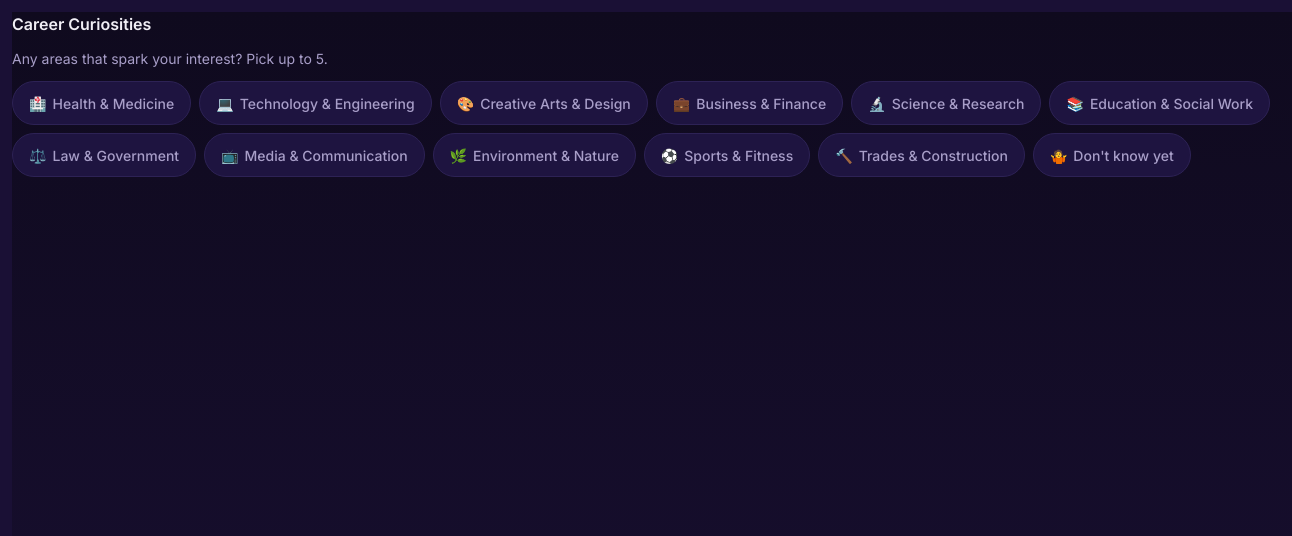
Scenario: CuriositiesPicker › explains the cap once it is reached
Click the checkbox labelled "Health & Medicine": (102, 103) x1=12 y1=81 x2=191 y2=125
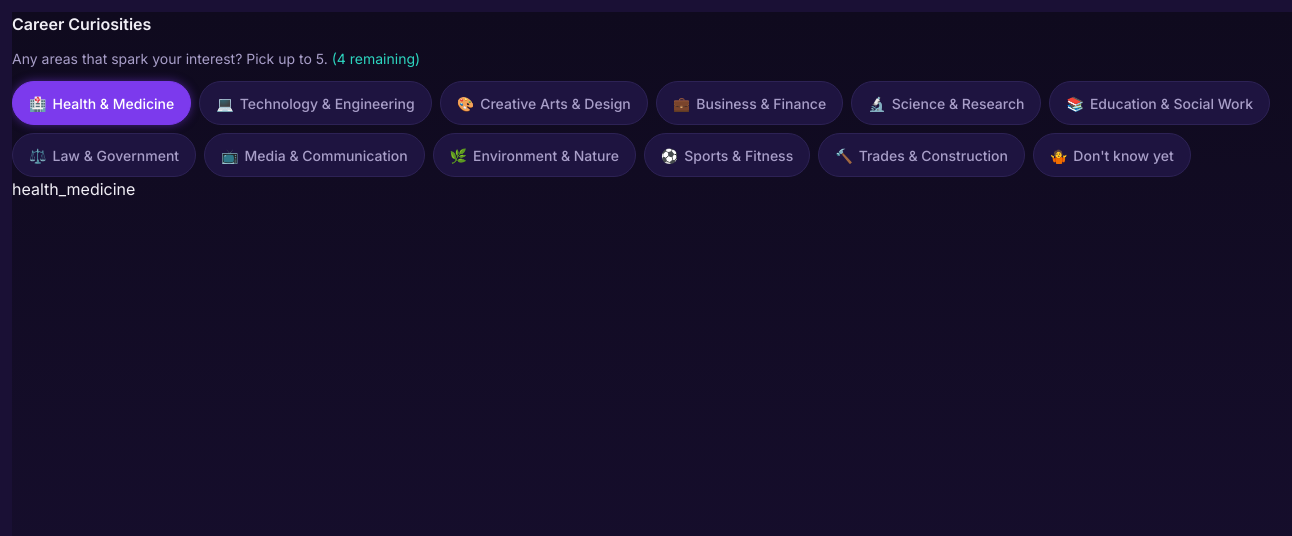
Click the checkbox labelled "Technology & Engineering": (315, 103) x1=199 y1=81 x2=432 y2=125
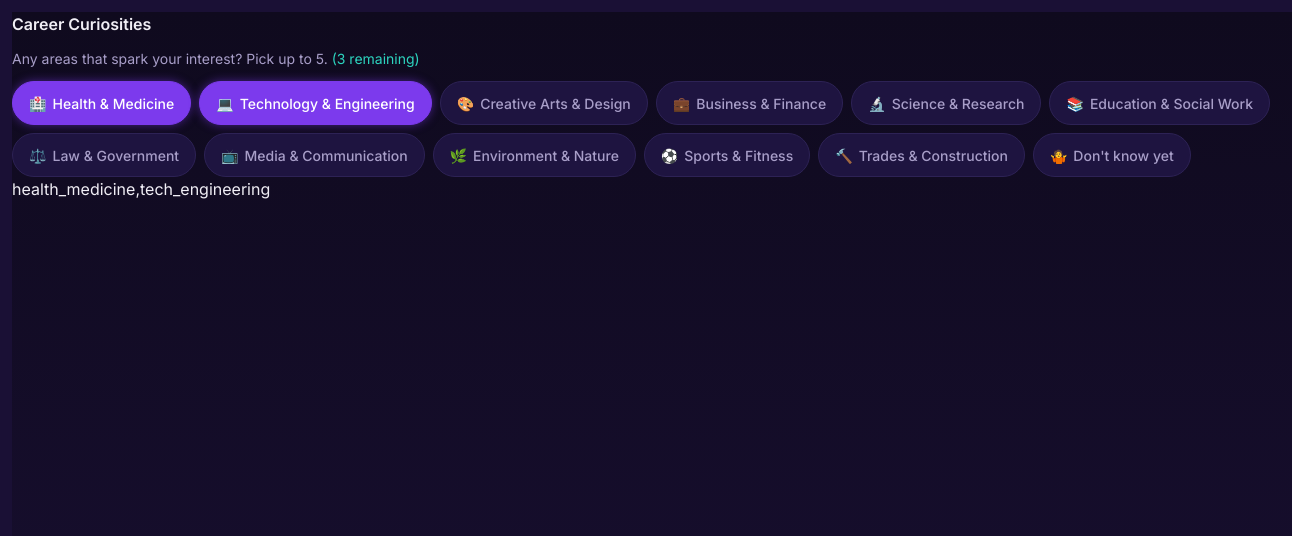
Click the checkbox labelled "Creative Arts & Design": (544, 103) x1=440 y1=81 x2=648 y2=125
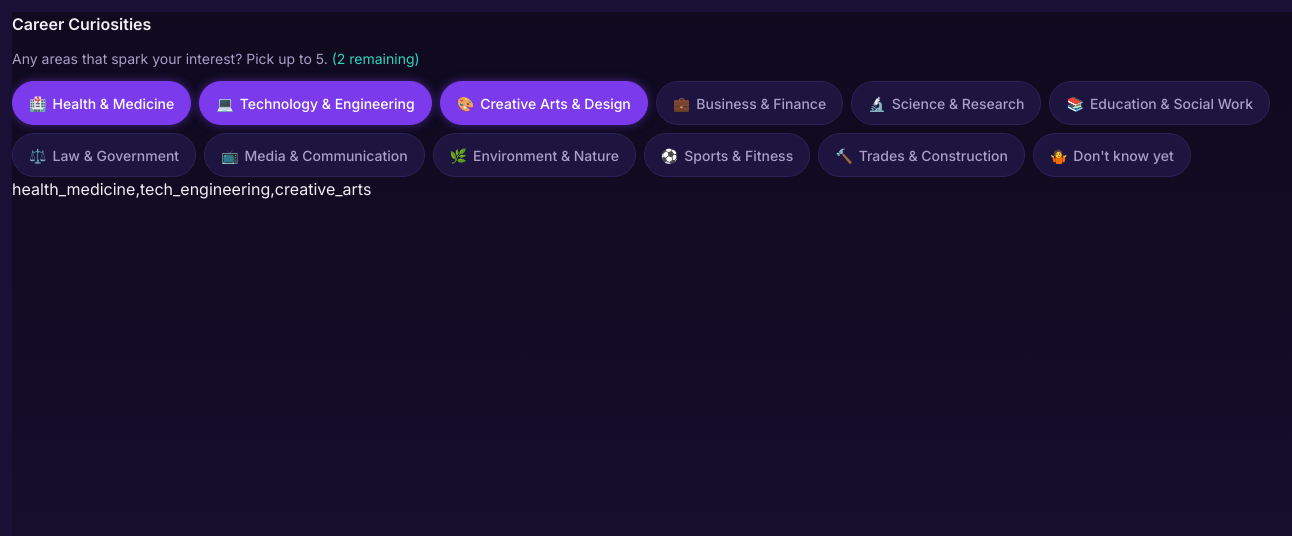
Click the checkbox labelled "Business & Finance": (750, 103) x1=656 y1=81 x2=843 y2=125
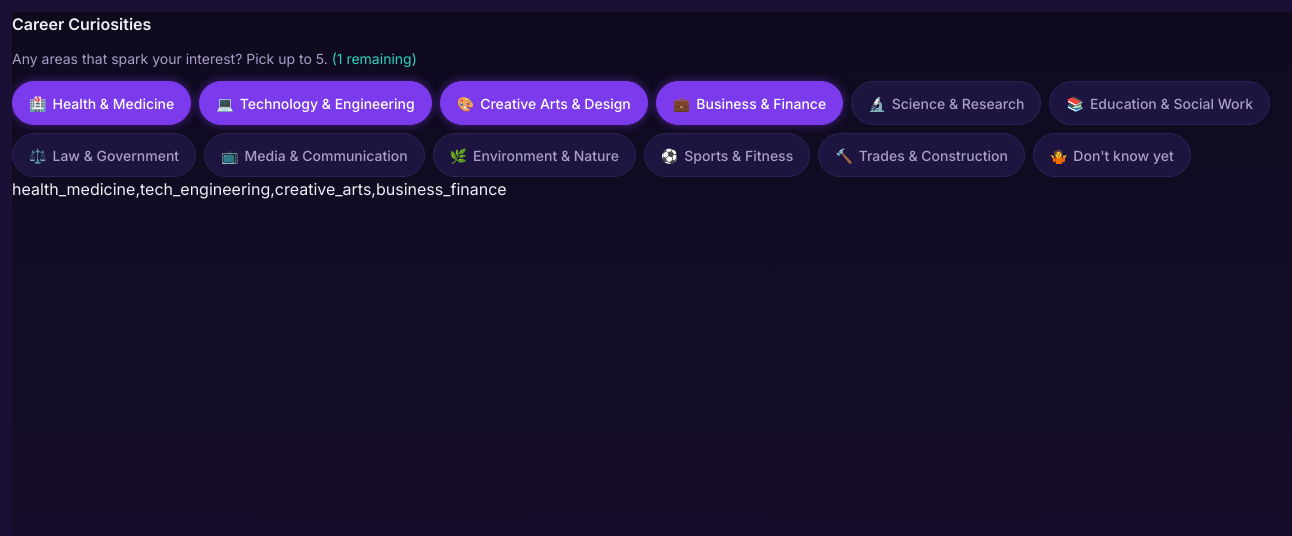
Click the checkbox labelled "Science & Research": (946, 103) x1=851 y1=81 x2=1042 y2=125
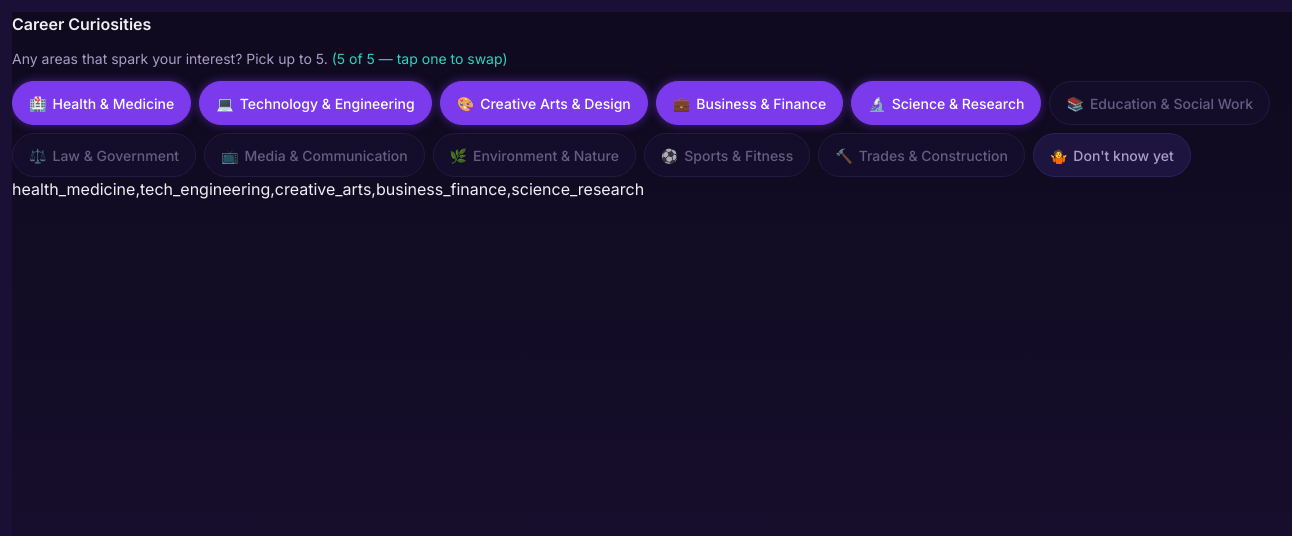
expect the text "(5 of 5 — tap one to swap)" is shown: met, box x1=328 y1=50 x2=508 y2=67
expect the text "remaining" is gone: met
